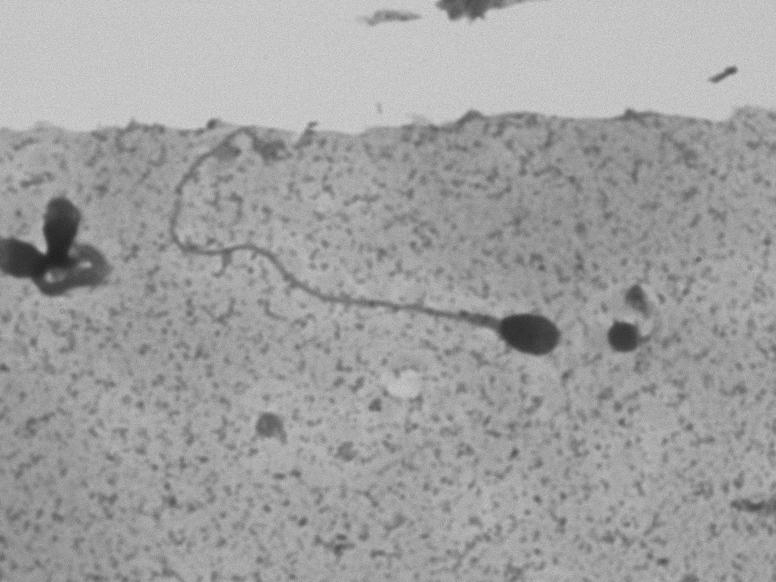Normal: (155, 129, 571, 370)
